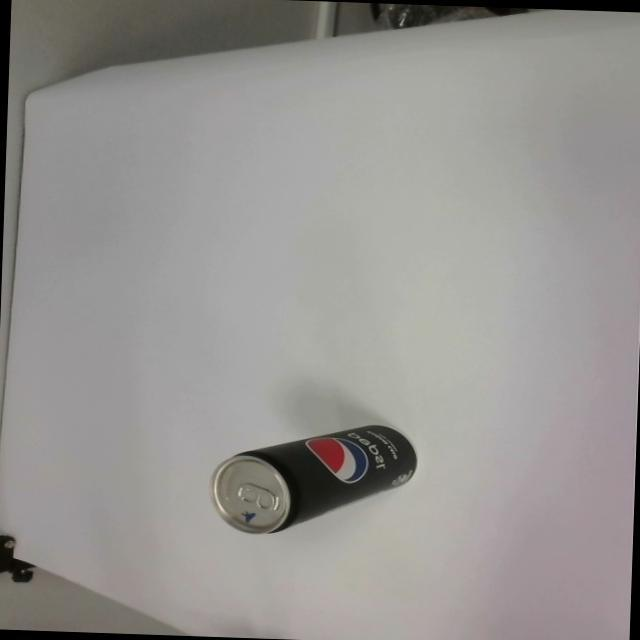debris: (208, 418, 420, 538)
